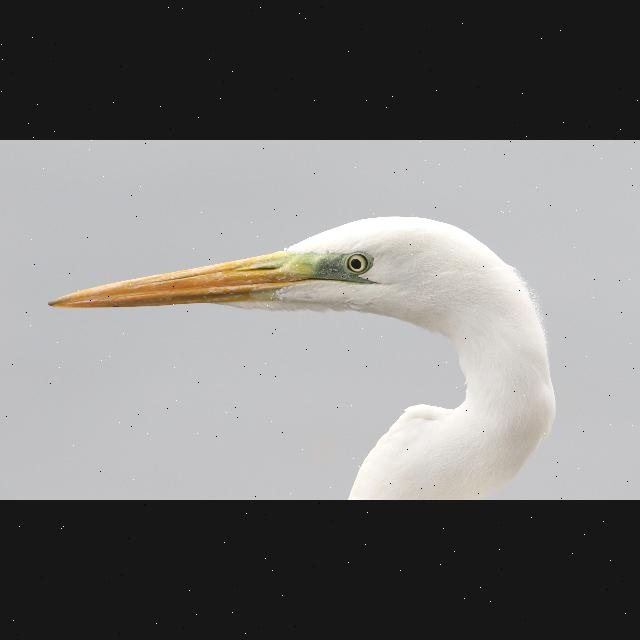egret: (41, 212, 561, 500)
